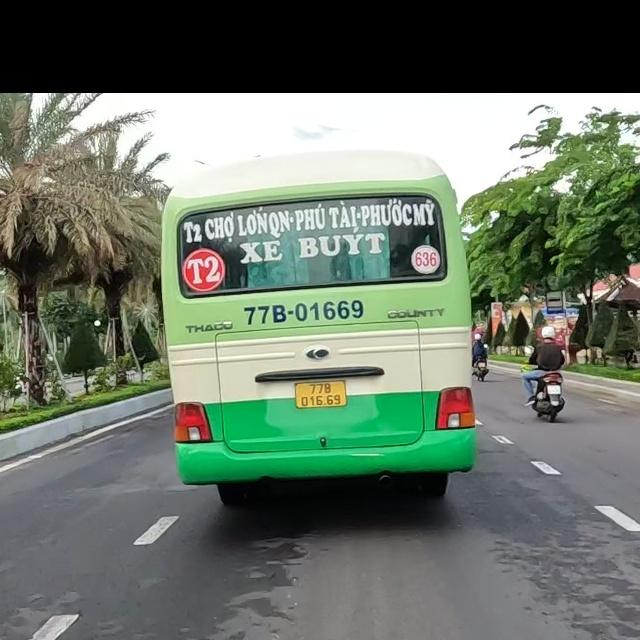license-plate: (294, 381, 347, 409)
